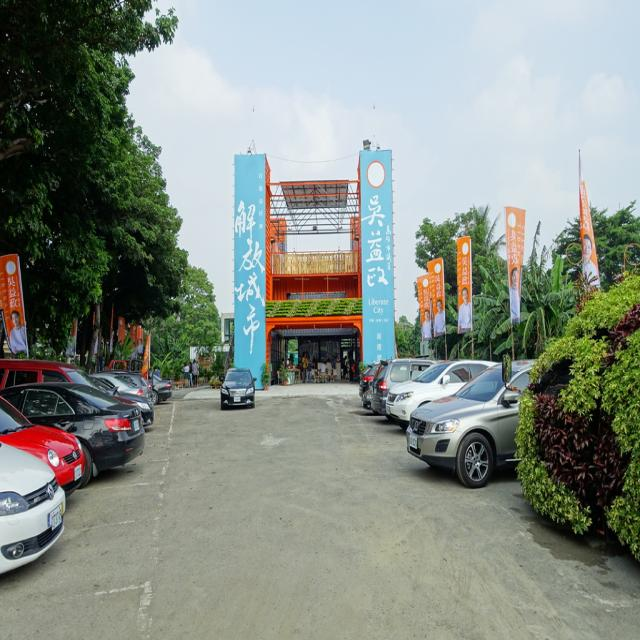car: (219, 366, 254, 407)
